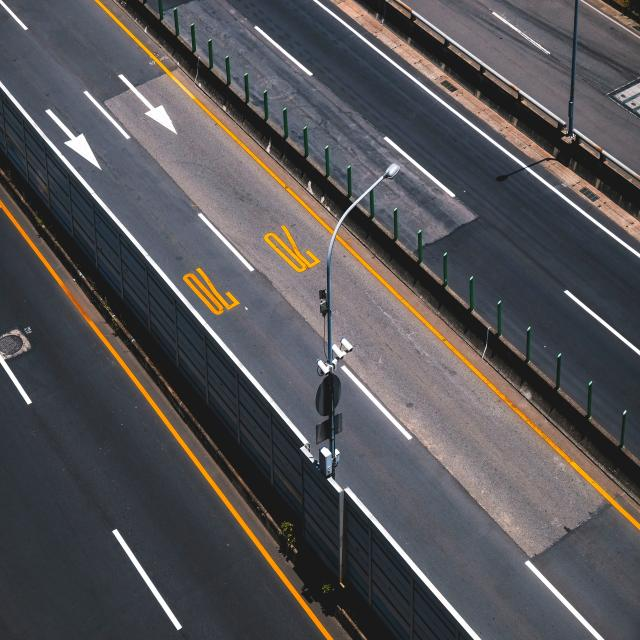Street Light: (324, 163, 402, 475)
